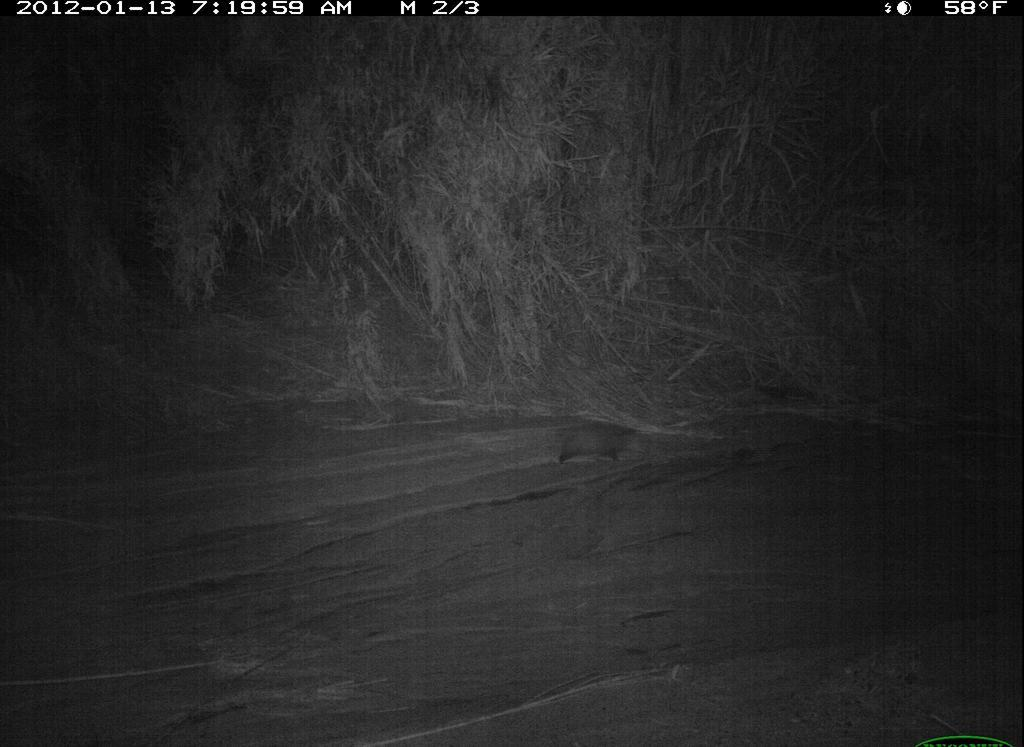opossum: (526, 393, 653, 487)
